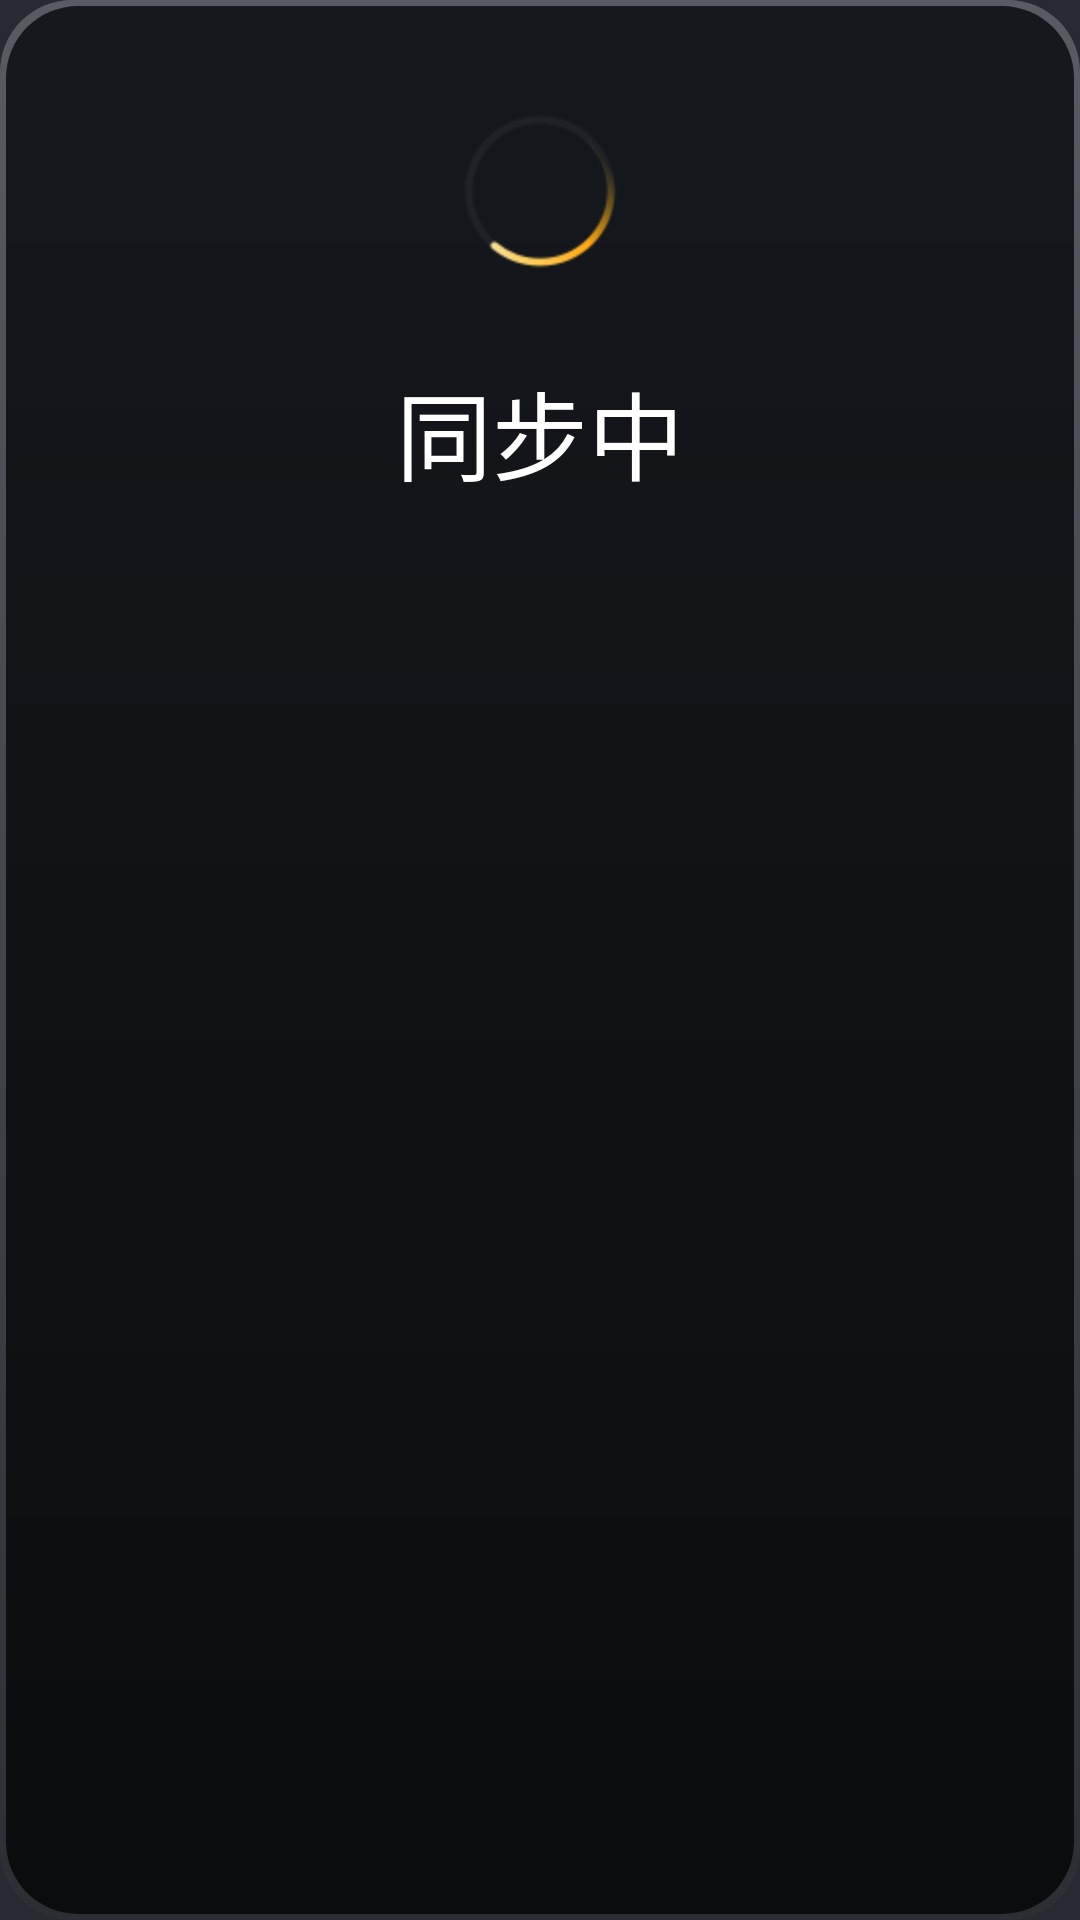

Icon bounding boxes for this 1080w x 1920h phone screenshot, format (x1,y1,x2,y2):
recover lodading: (489,167,615,267)
